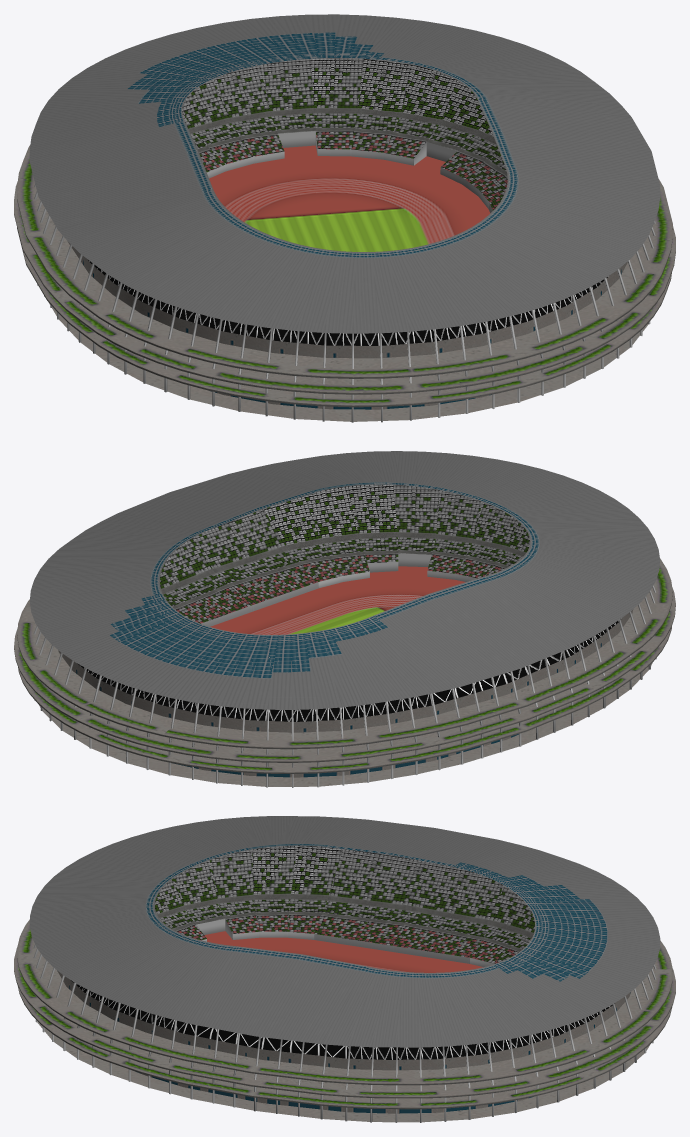
The model's file is geo_national_stadium.fbx.
The picture shows the model from 3 angles, top to bottom: view 1: azimuth 30°, elevation 25°; view 2: azimuth 150°, elevation 25°; view 3: azimuth 270°, elevation 25°; orthographic projection. The views are drawn at different scales.
Parts seen in each view (by area): view 1: geo_national_stadium; view 2: geo_national_stadium; view 3: geo_national_stadium.
Part boxes in pixels (x1=…): geo_national_stadium: x1=14, y1=14, x2=675, y2=422; geo_national_stadium: x1=14, y1=451, x2=675, y2=787; geo_national_stadium: x1=14, y1=816, x2=675, y2=1122.
Bounding box in the file's own units: 34906 × 6950 × 40178.
